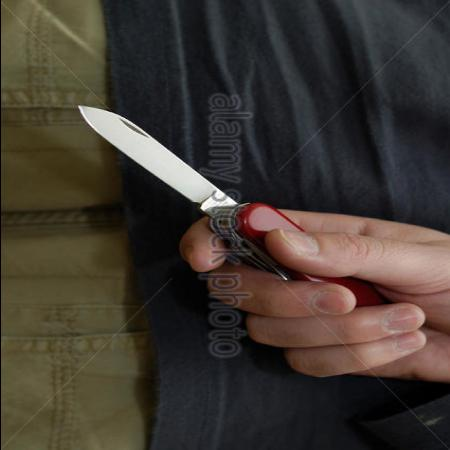long weapon: (67, 100, 379, 323)
